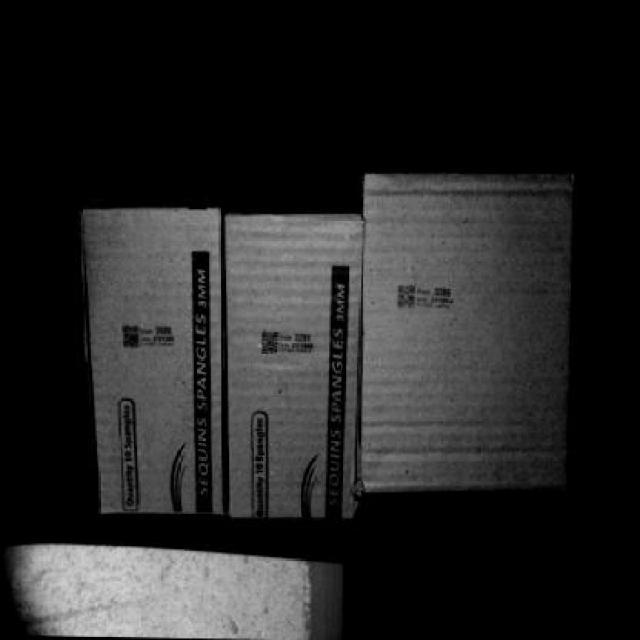box: (359, 172, 576, 488), (76, 204, 232, 522), (223, 214, 362, 522)
